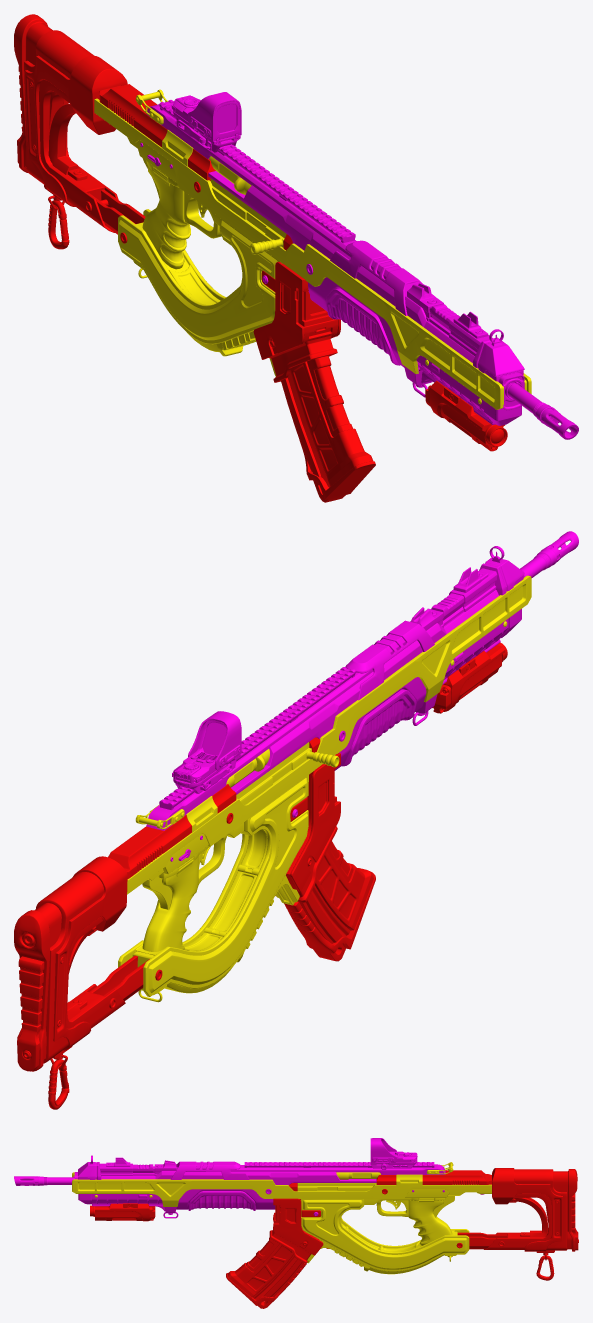
File: ICARUS_Gun_LowPoly.fbx
The picture shows the model from 3 angles, top to bottom: view 1: azimuth 30°, elevation 25°; view 2: azimuth 150°, elevation 25°; view 3: azimuth 270°, elevation 25°; orthographic projection. The views are drawn at different scales.
Visible parts, largest first — view 1: BodyMain_low, HandleCap_low, CrossOver_low, BodySecond_low, ChargerSmall_low, CrossInside_low, HandleMain_low, ChargerTop_low, BodyTop_low, BodySlider_low, BodyBack_low, HandleSnake_low (+24 smaller); view 2: BodyMain_low, HandleCap_low, CrossOver_low, BodySecond_low, HandleSnake_low, CrossSecond_low, CrossMain_low, BodyTop_low, HandleMain_low, BodyBack_low, ChargerSmall_low, ChargerTop_low (+18 smaller); view 3: BodyMain_low, HandleCap_low, CrossOver_low, BodySecond_low, HandleSnake_low, ChargerSmall_low, BodyTop_low, ChargerTop_low, HandleMain_low, CrossSecond_low, BodyBack_low, CanonHandle_low (+25 smaller).
Part boxes in pixels (x1=…): BodyMain_low: x1=94, y1=98, x2=531, y2=409; HandleCap_low: x1=119, y1=220, x2=277, y2=340; CrossOver_low: x1=24, y1=55, x2=127, y2=206; BodySecond_low: x1=208, y1=171, x2=474, y2=362; ChargerSmall_low: x1=290, y1=361, x2=373, y2=486; CrossInside_low: x1=39, y1=79, x2=118, y2=232; HandleMain_low: x1=142, y1=166, x2=198, y2=269; ChargerTop_low: x1=253, y1=261, x2=340, y2=359; BodyTop_low: x1=146, y1=104, x2=419, y2=296; BodySlider_low: x1=159, y1=100, x2=355, y2=243; BodyBack_low: x1=99, y1=84, x2=215, y2=180; HandleSnake_low: x1=118, y1=209, x2=279, y2=344; BodyMain_low: x1=127, y1=575, x2=531, y2=894; HandleCap_low: x1=148, y1=778, x2=308, y2=992; CrossOver_low: x1=53, y1=856, x2=127, y2=1050; BodySecond_low: x1=231, y1=590, x2=498, y2=794; HandleSnake_low: x1=118, y1=775, x2=308, y2=996; CrossSecond_low: x1=36, y1=872, x2=104, y2=1063; CrossMain_low: x1=14, y1=903, x2=61, y2=1071; BodyTop_low: x1=146, y1=634, x2=405, y2=830; HandleMain_low: x1=142, y1=856, x2=198, y2=951; BodyBack_low: x1=108, y1=784, x2=236, y2=878; ChargerSmall_low: x1=315, y1=851, x2=373, y2=930; ChargerTop_low: x1=290, y1=753, x2=340, y2=891; BodyMain_low: x1=72, y1=1172, x2=491, y2=1206; HandleCap_low: x1=302, y1=1200, x2=467, y2=1269; CrossOver_low: x1=492, y1=1168, x2=562, y2=1251; BodySecond_low: x1=101, y1=1167, x2=376, y2=1185; HandleSnake_low: x1=300, y1=1199, x2=469, y2=1271; ChargerSmall_low: x1=227, y1=1244, x2=293, y2=1297; BodyTop_low: x1=177, y1=1162, x2=445, y2=1174; ChargerTop_low: x1=273, y1=1198, x2=323, y2=1255; HandleMain_low: x1=408, y1=1200, x2=452, y2=1245; CrossSecond_low: x1=514, y1=1169, x2=567, y2=1250; BodyBack_low: x1=376, y1=1170, x2=491, y2=1184; CanonHandle_low: x1=188, y1=1191, x2=255, y2=1210.
Size of the model in its own units: 5.91 by 29.55 by 90.57.
